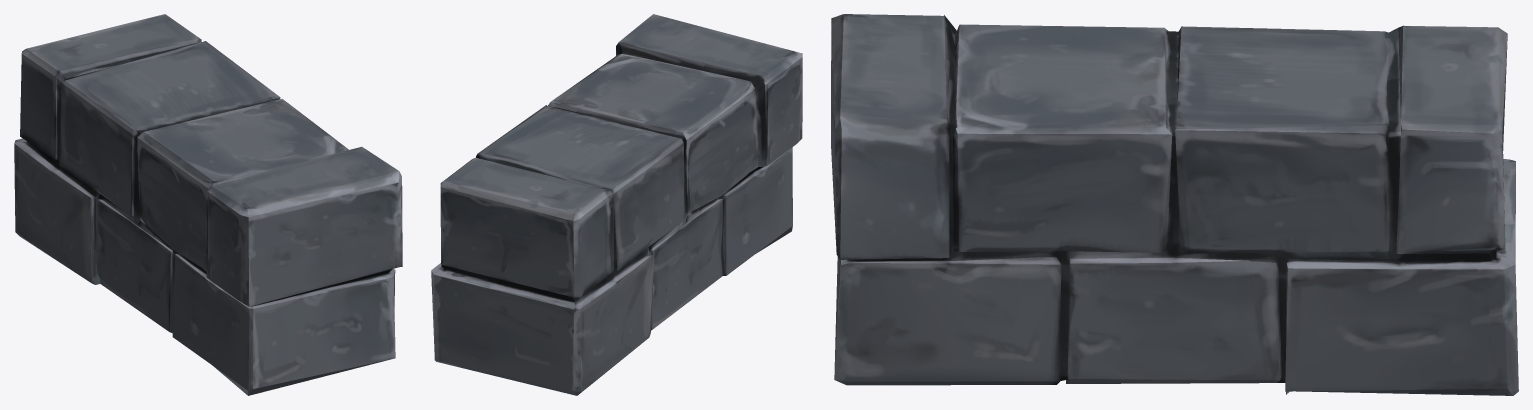
File: babywall.fbx
The picture shows the model from 3 angles, left to right: view 1: azimuth 30°, elevation 25°; view 2: azimuth 150°, elevation 25°; view 3: azimuth 270°, elevation 25°; orthographic projection. The views are drawn at different scales.
Visible parts, largest first — view 1: Cube; view 2: Cube; view 3: Cube.
Boxes of the visible parts, <box> form: Cube: <box>14,14,402,395</box>; Cube: <box>431,14,802,395</box>; Cube: <box>831,14,1518,395</box>.
Size of the model in its own units: 81.96 by 94.43 by 207.
1 material, 1 textured.
